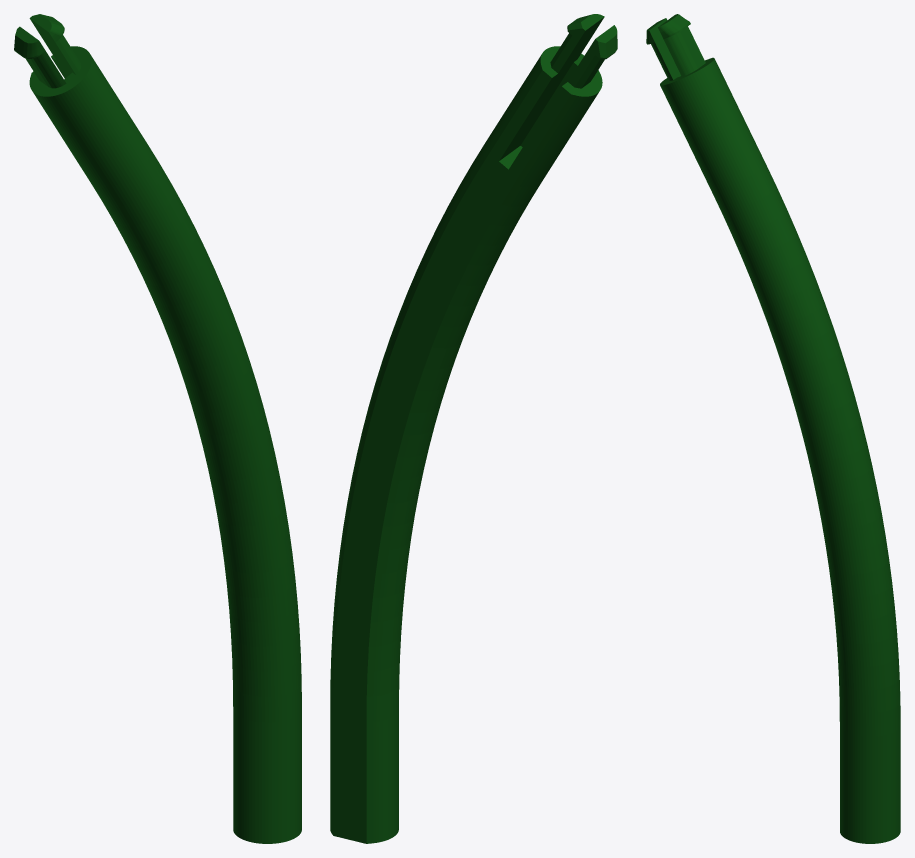
File: stem_3A_30_L.glb
3 views of the same model, side by side, from view 1: azimuth 30°, elevation 25°; view 2: azimuth 150°, elevation 25°; view 3: azimuth 330°, elevation 25° (orthographic). The views are drawn at different scales.
Visible parts, largest first — view 1: stem_3A_30_L; view 2: stem_3A_30_L; view 3: stem_3A_30_L.
Boxes of the visible parts, <box> form: stem_3A_30_L: <box>14,14,301,843</box>; stem_3A_30_L: <box>330,14,617,843</box>; stem_3A_30_L: <box>646,14,900,843</box>.
Bounding box in the file's own units: 0.0335 × 0.0999 × 0.00666.
